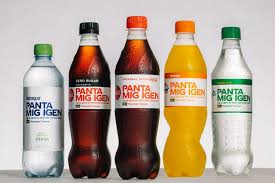HDPE Cap: (174, 20, 196, 34), (126, 16, 148, 29), (78, 22, 99, 35), (221, 27, 241, 39), (34, 44, 53, 56)
PET Bottle: (114, 15, 160, 181), (163, 20, 207, 177), (68, 21, 111, 180), (211, 26, 254, 177), (22, 43, 64, 178)
PVC Label: (23, 86, 64, 151), (116, 75, 161, 108), (68, 76, 111, 109), (164, 73, 207, 106), (212, 79, 253, 113)
